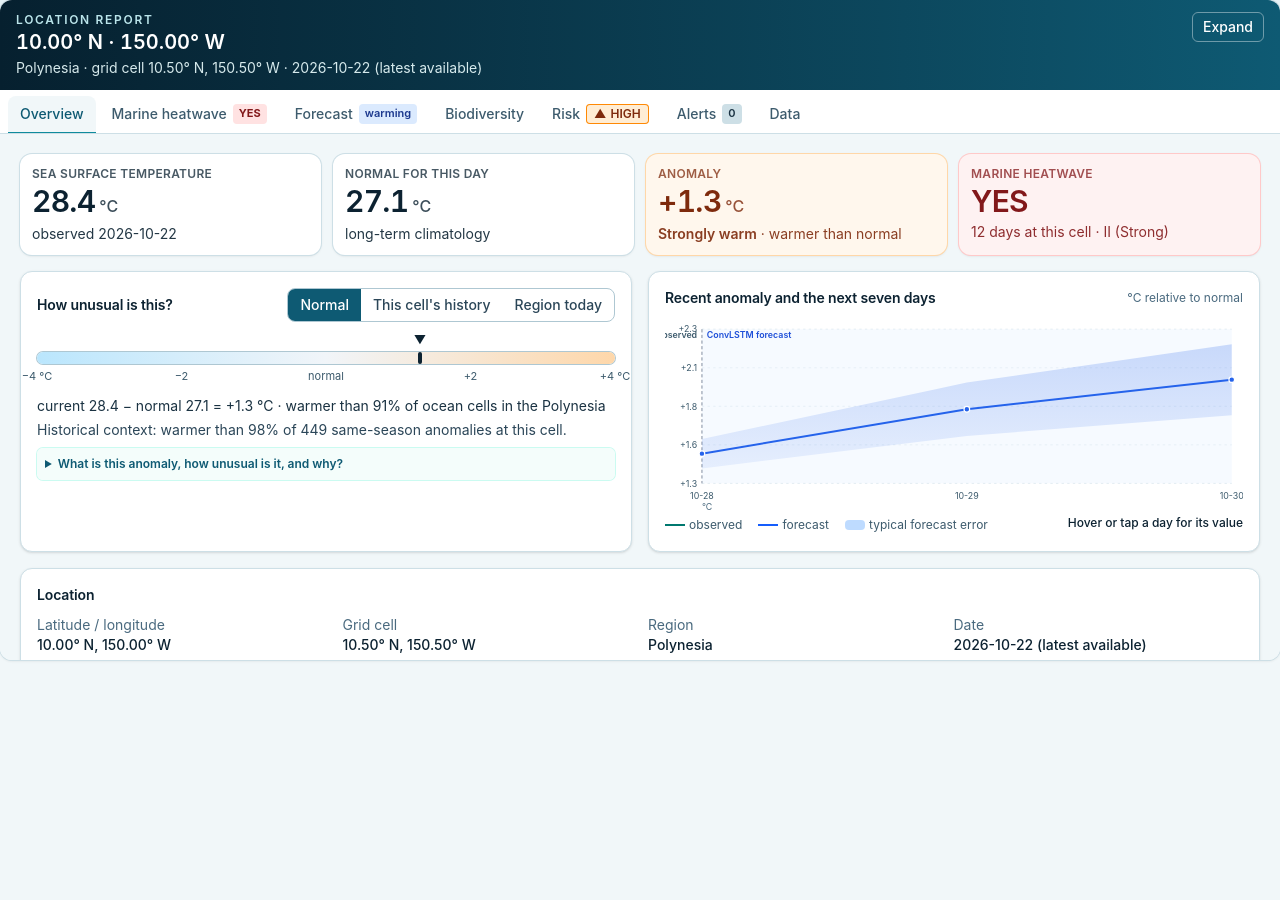
Test: Explainable AI panel › the warmer/cooler explanation for a cooling forecast is the backend's own text
The width and height of the screenshot is (1280, 900).
Click the tab "Forecast warming" at (356, 115), box [283,96,429,134]
(page scrolled)
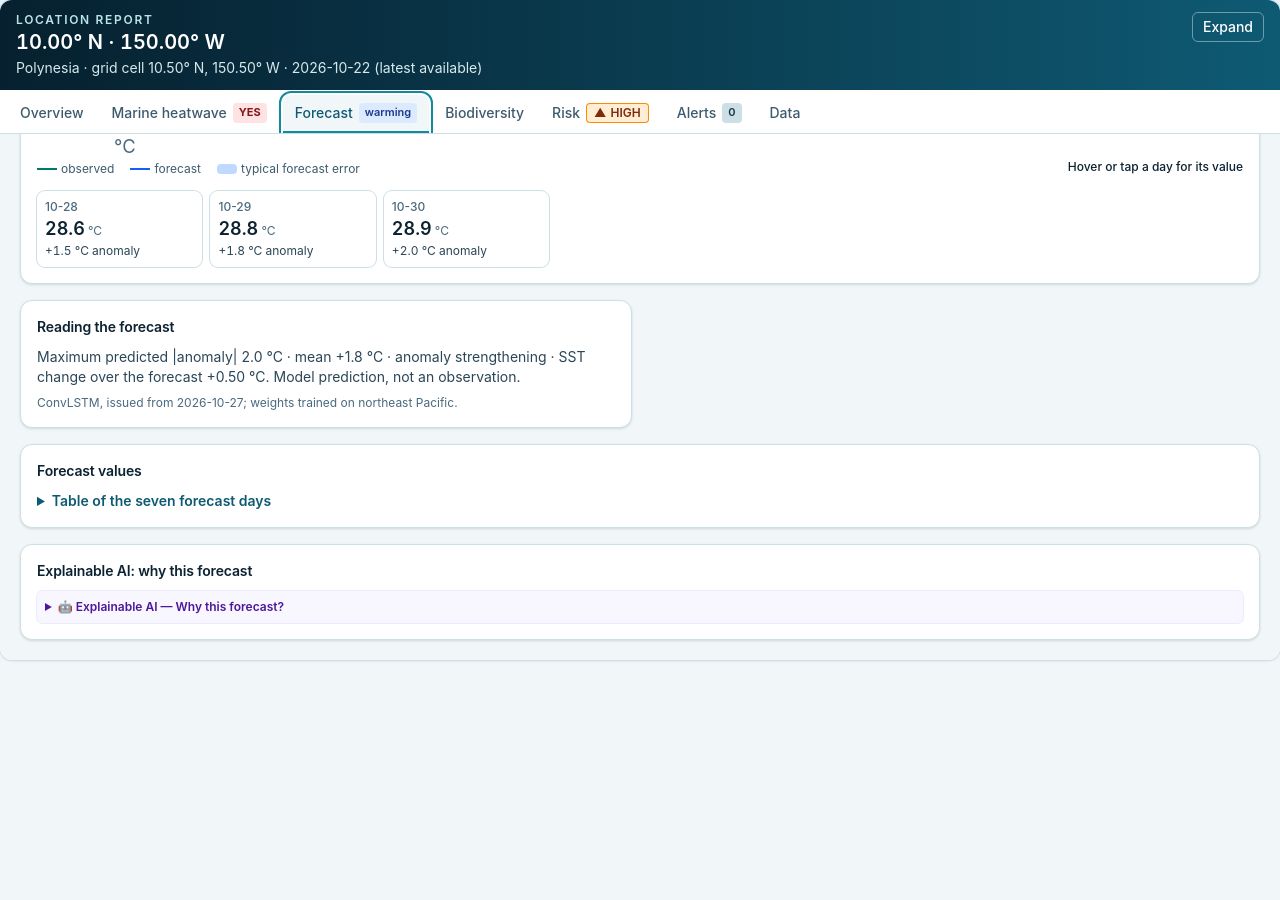
Click the heading "🤖 Explainable AI — Why this forecast?" at (171, 606), box [58,599,284,614]
(page scrolled)
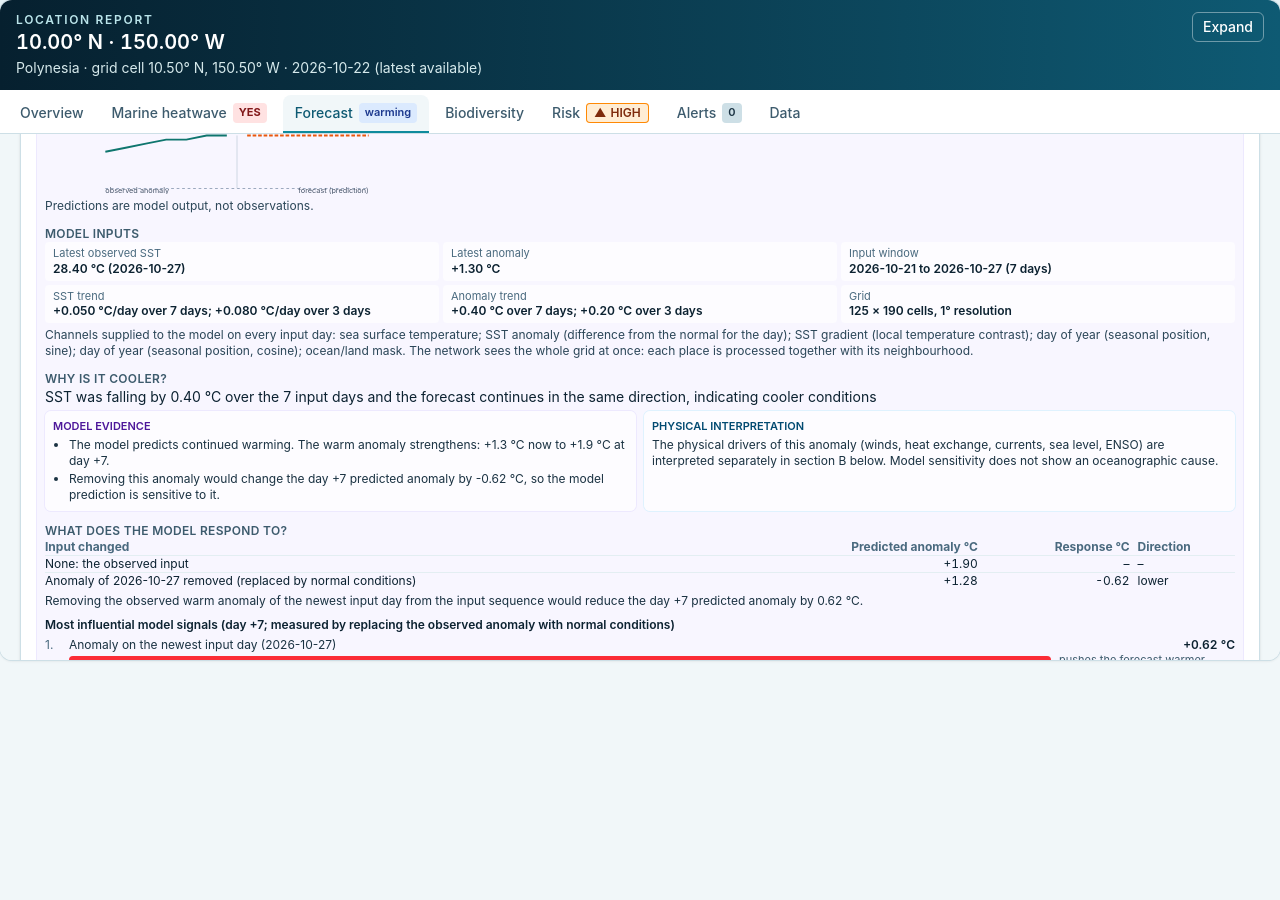
Expected: the text with test id "xai-plain" shows "SST was falling by 0.40 °C over the 7 input days and the forecast continues in the same direction, indicating cooler conditions", [45,388,877,405]
